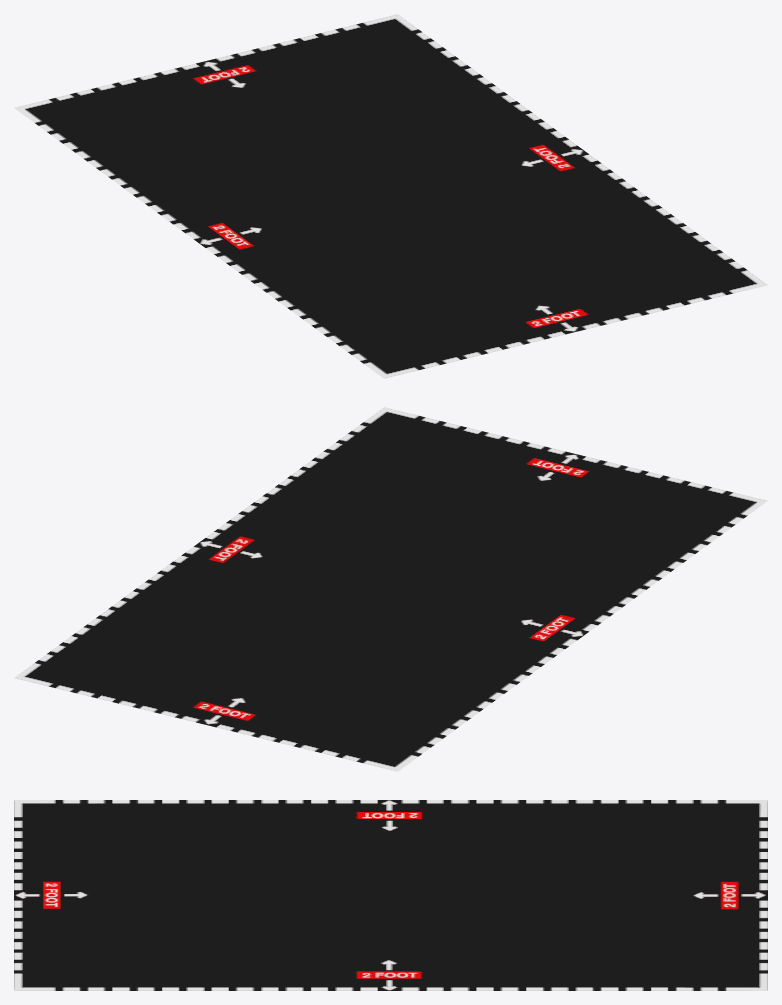
The model's file is 16ft_MarkingPlane_2ft.glb.
3 views of the same model, one above another, from view 1: azimuth 30°, elevation 25°; view 2: azimuth 150°, elevation 25°; view 3: azimuth 270°, elevation 25° (orthographic).
Visible parts, largest first — view 1: MarkingPlane_16ft_2ft; view 2: MarkingPlane_16ft_2ft; view 3: MarkingPlane_16ft_2ft.
Part boxes in pixels (bbox=[...]): MarkingPlane_16ft_2ft: bbox=[14, 14, 767, 378]; MarkingPlane_16ft_2ft: bbox=[14, 407, 767, 771]; MarkingPlane_16ft_2ft: bbox=[14, 800, 767, 990].
Size of the model in its own units: 3.69 by 7.32e-07 by 6.16.
Materials: 1 (1 with a texture image).
